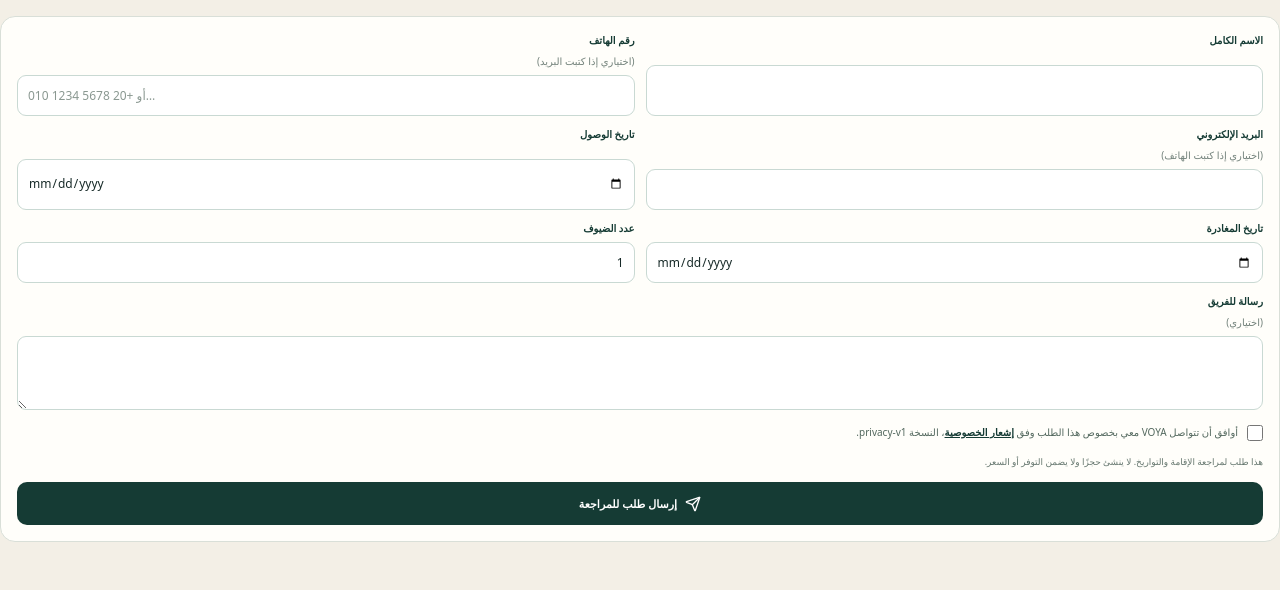
Stay guest request form › requires at least one contact method and explicit consent before sending
In the field labelled "الاسم الكامل": {"x": 954, "y": 90} [646,64,1263,116], type "ضيف VOYA"
In the date field labelled "تاريخ الوصول": {"x": 326, "y": 184} [17,158,634,210], type "2027-03-01"
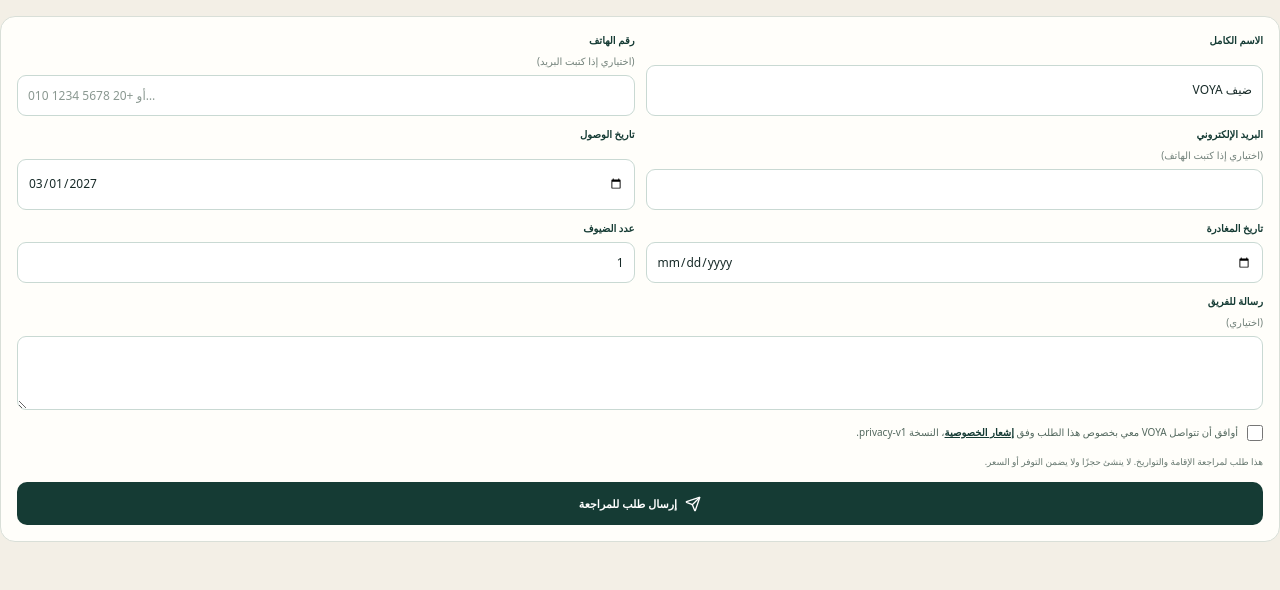
In the date field labelled "تاريخ المغادرة": {"x": 954, "y": 262} [646,242,1263,283], type "2027-03-04"
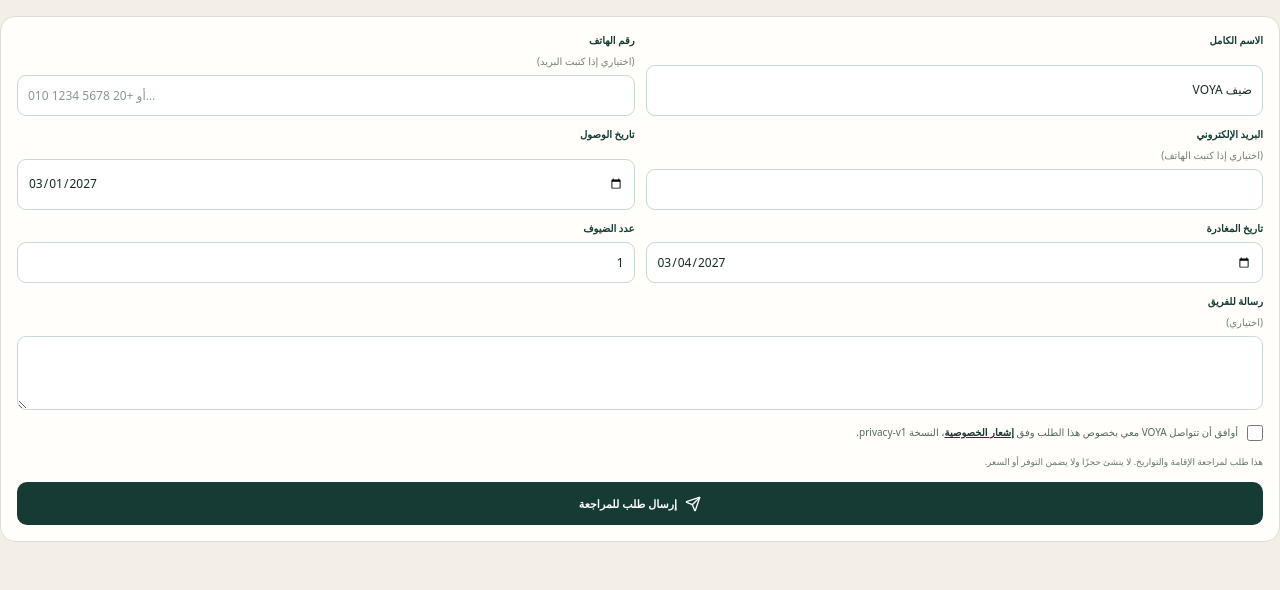
Replace the text in the number field labelled "عدد الضيوف" with "2": {"x": 326, "y": 262} [17,242,634,283]
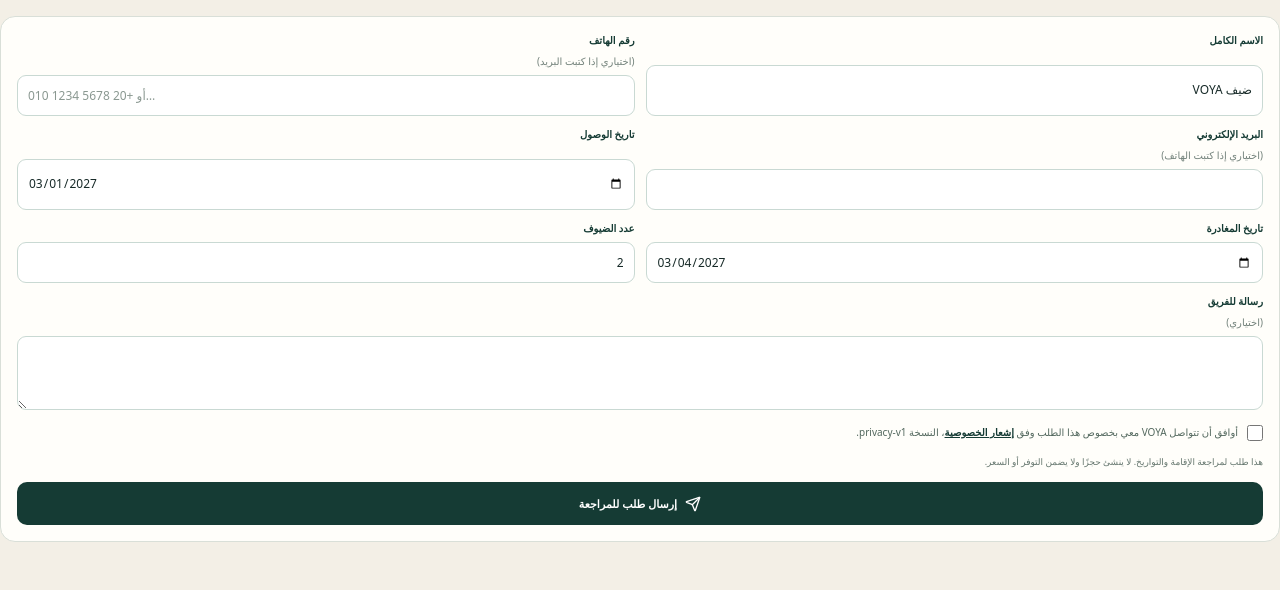
Click the button "إرسال طلب للمراجعة": {"x": 640, "y": 504} [17,482,1263,525]
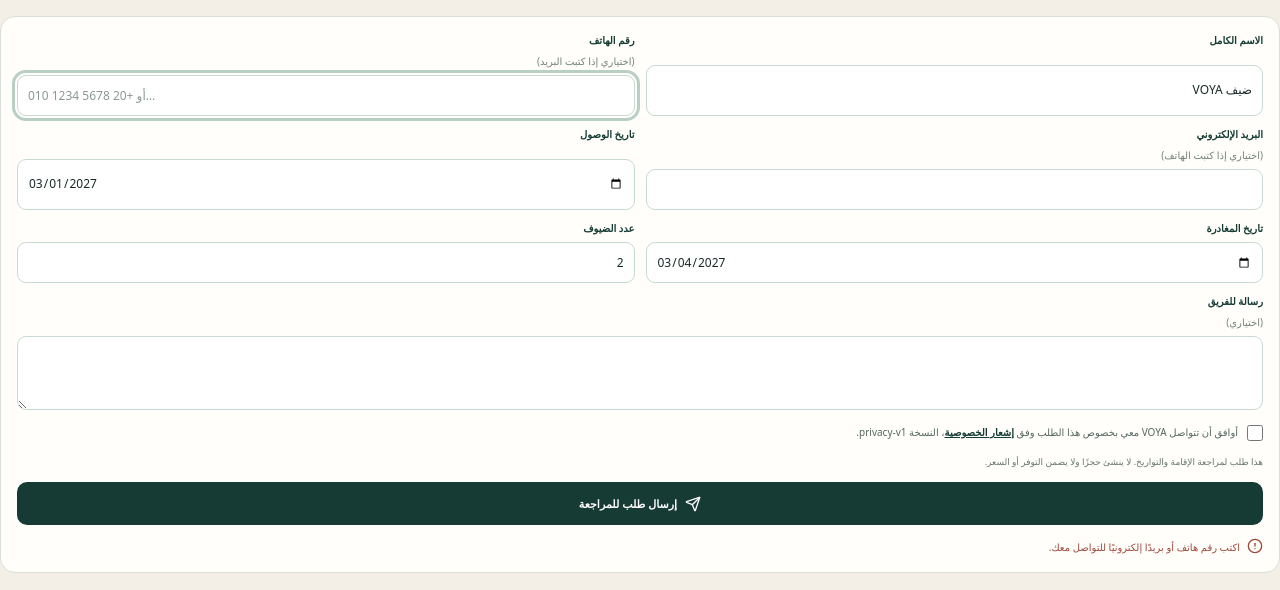
Expected: the message reads "اكتب رقم هاتف أو بريدًا إلكترونيًا للتواصل معك.", [1049,540,1240,554]
In the field labelled "رقم الهاتف (اختياري إذا كتبت البريد)": {"x": 326, "y": 96} [17,75,634,116], type "01012345678"
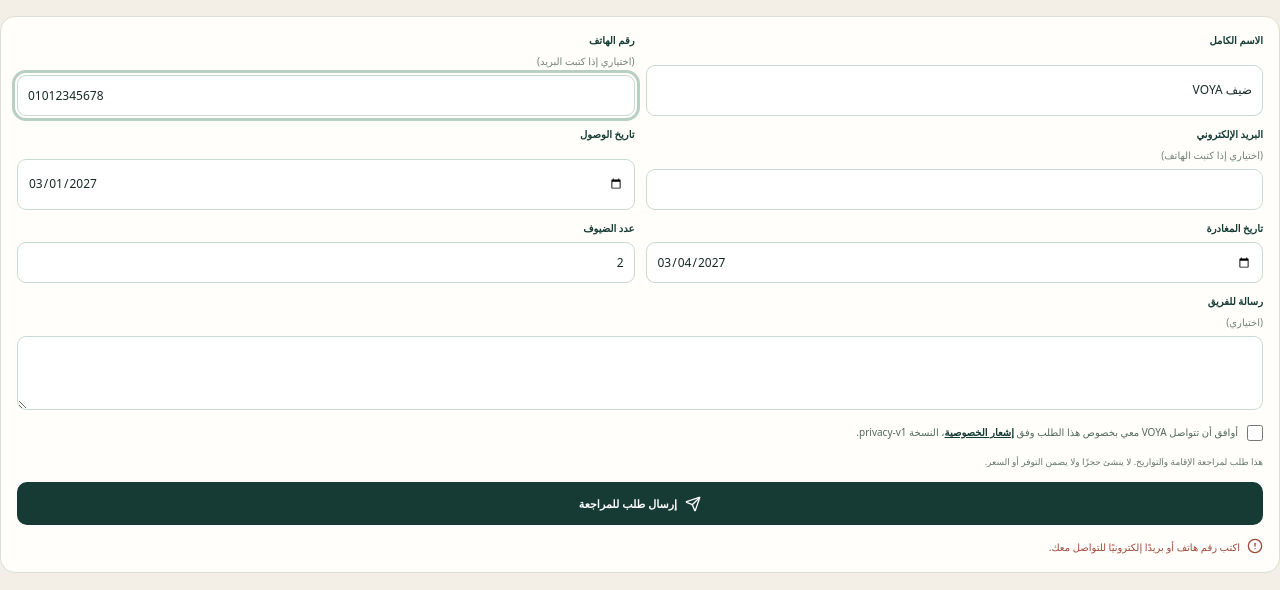
Click the button "إرسال طلب للمراجعة": {"x": 640, "y": 504} [17,482,1263,525]
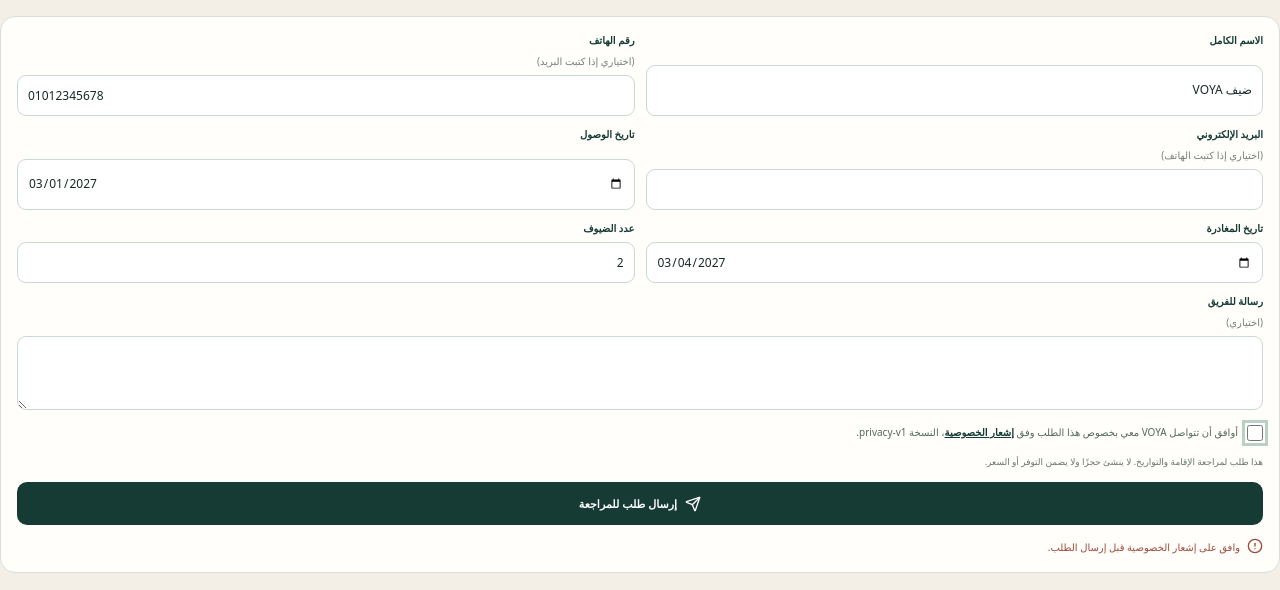
Expected: the message reads "وافق على إشعار الخصوصية قبل إرسال الطلب.", [1048,540,1240,554]
